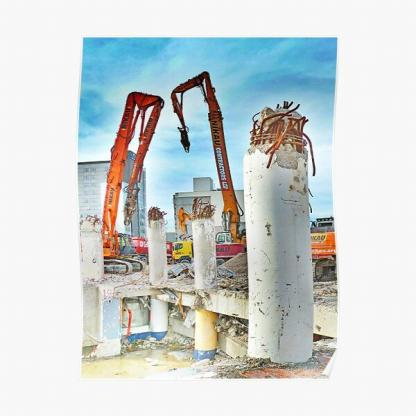rebar: (250, 108, 318, 180), (192, 199, 215, 220), (148, 205, 165, 222), (85, 216, 105, 227)
